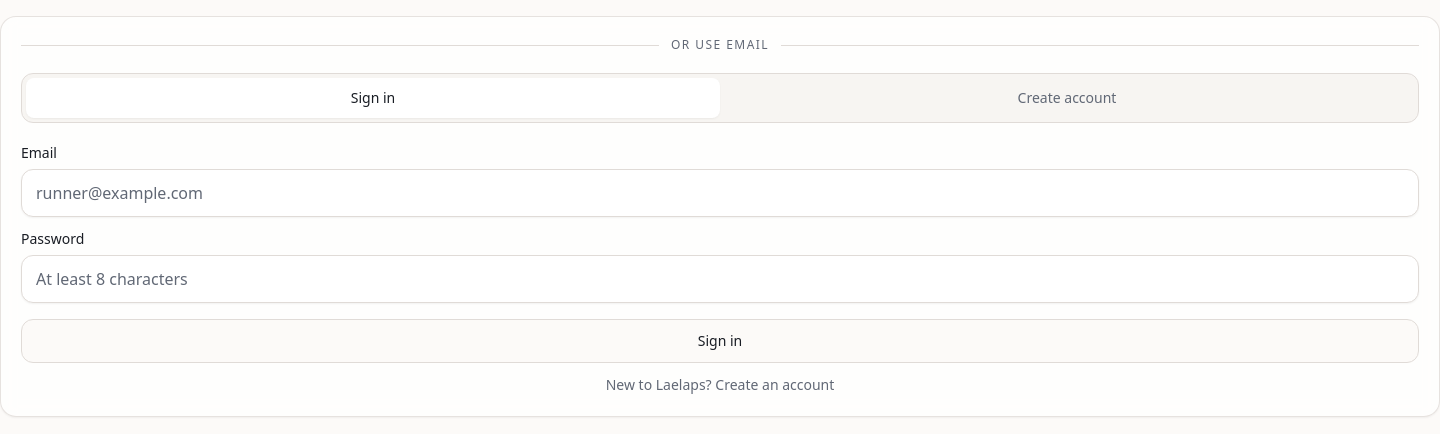
Scenario: EmailPasswordPanel › switches to the create account form without rendering duplicate fields
The width and height of the screenshot is (1440, 434).
Click the button "New to Laelaps? Create an account": (720, 385) [21, 375, 1419, 395]
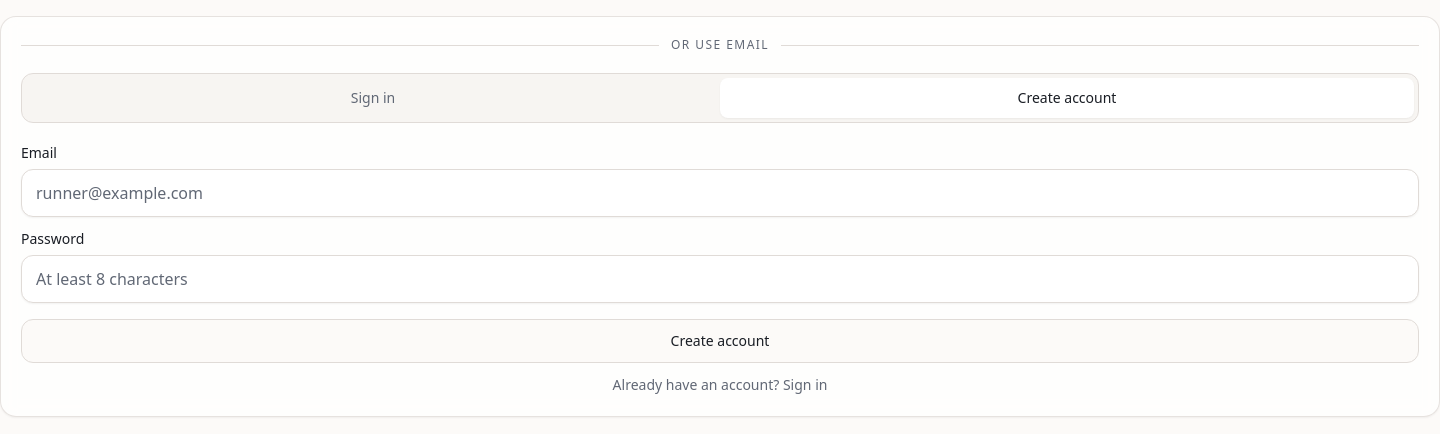
Expected: the number of password fields labelled "Password" is 1, [21, 255, 1419, 303]
Expected: the button "Create account" below "Password" is shown, [21, 319, 1419, 363]
Expected: the button "Already have an account? Sign in" is shown, [21, 375, 1419, 395]
